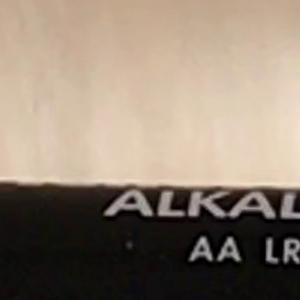keyword: (95, 181, 194, 226)
